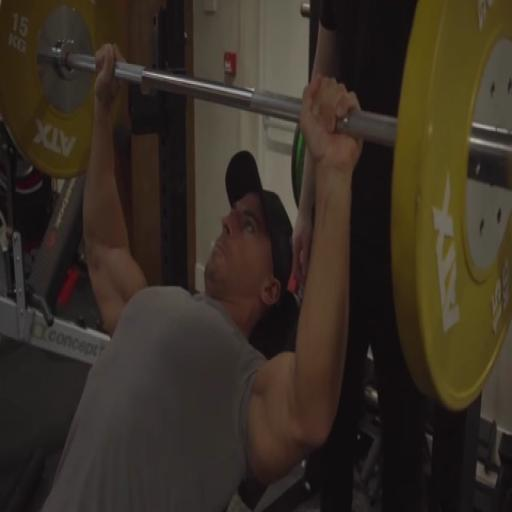exercise: (27, 41, 367, 511)
